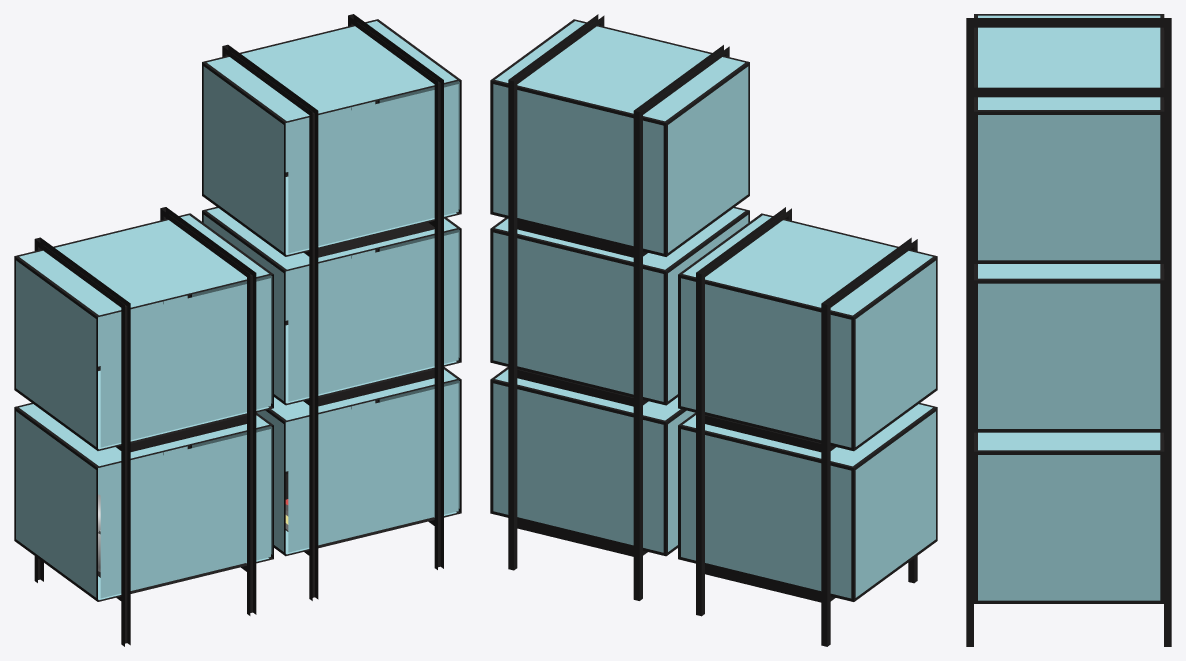
Rendered from M_BRwoshigui04.FBX.
3 views of the same model, side by side, from view 1: azimuth 30°, elevation 25°; view 2: azimuth 150°, elevation 25°; view 3: azimuth 270°, elevation 25° (orthographic). The views are drawn at different scales.
Parts seen in each view (by area): view 1: M_BRwoshigui04_02, M_BRwoshigui04_01; view 2: M_BRwoshigui04_02, M_BRwoshigui04_01; view 3: M_BRwoshigui04_02, M_BRwoshigui04_01.
Boxes of the visible parts, x1=… form: M_BRwoshigui04_02: x1=16, y1=21, x2=459, y2=599; M_BRwoshigui04_01: x1=14, y1=14, x2=461, y2=646; M_BRwoshigui04_02: x1=493, y1=21, x2=935, y2=598; M_BRwoshigui04_01: x1=490, y1=14, x2=937, y2=646; M_BRwoshigui04_02: x1=978, y1=15, x2=1160, y2=600; M_BRwoshigui04_01: x1=966, y1=14, x2=1171, y2=646.
Bounding box in the file's own units: 2.55 × 3.28 × 1.1.
